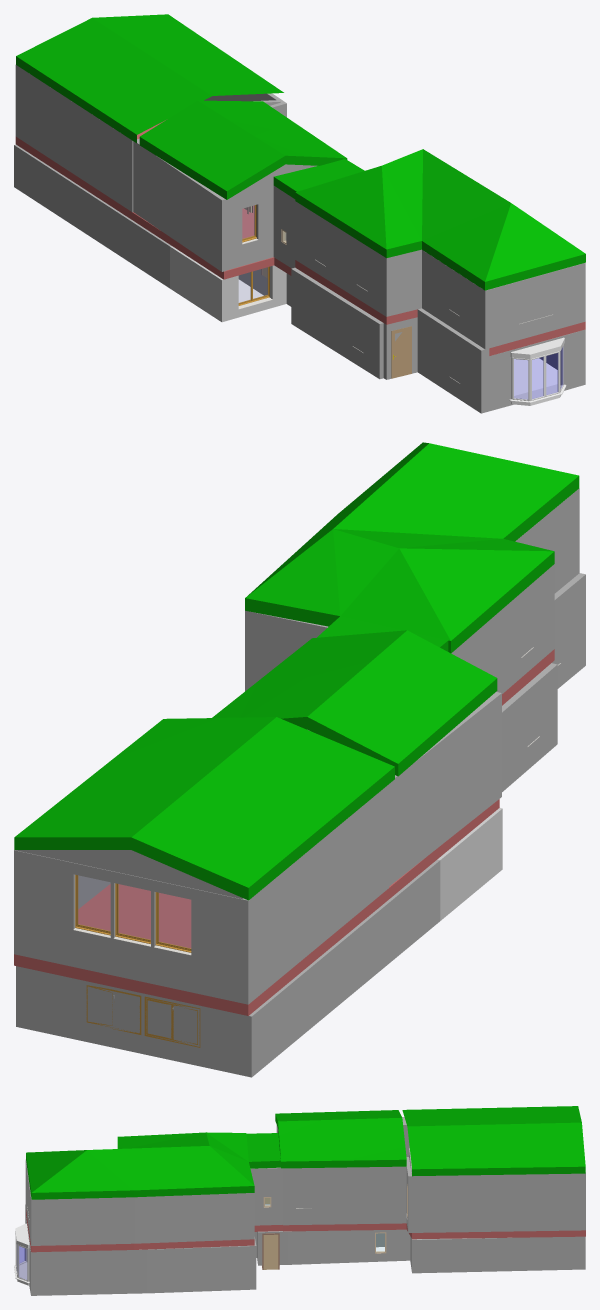
File: house.glb
The picture shows the model from 3 angles, top to bottom: view 1: azimuth 30°, elevation 25°; view 2: azimuth 150°, elevation 25°; view 3: azimuth 270°, elevation 25°; orthographic projection. The views are drawn at different scales.
Visible parts, largest first — view 1: 3XzpifDcjDEfk64CG2Fnoz, 3XzpifDcjDEfk64CO2FnYm, 3XzpifDcjDEfk64CO2FnwA, 3VABz7o1f8W9ikQq9ttgl2, 3VABz7o1f8W9ikQq9ttgek, 3VABz7o1f8W9ikQq9ttgy7, 3VABz7o1f8W9ikQq9ttgxj, 25QYtiKETCUupUmAlac2sX, 25QYtiKETCUupUmAlac10f, 25QYtiKETCUupUmAlac2h3, 3VABz7o1f8W9ikQq9ttgvN, 3VABz7o1f8W9ikQq9ttgh7 (+16 smaller); view 2: 3XzpifDcjDEfk64CO2FnYm, 3XzpifDcjDEfk64CG2Fnoz, 3XzpifDcjDEfk64CO2FnwA, 3VABz7o1f8W9ikQq9ttgiF, 3VABz7o1f8W9ikQq9ttgl2, 25QYtiKETCUupUmAlac13b, 3VABz7o1f8W9ikQq9ttgek, 2SDOckXXT5jh9RvQNsgsDw, 25QYtiKETCUupUmAlac10f, 3VABz7o1f8W9ikQq9ttgxj, 25QYtiKETCUupUmAlac2sX, 0_Y6Y$89z7E8BxuF8vUVXY (+8 smaller); view 3: 3XzpifDcjDEfk64CG2Fnoz, 3XzpifDcjDEfk64CO2FnYm, 3VABz7o1f8W9ikQq9ttgjr, 3XzpifDcjDEfk64CO2FnwA, 3VABz7o1f8W9ikQq9ttgWf, 25QYtiKETCUupUmAlac13F, 3VABz7o1f8W9ikQq9ttgnF, 25QYtiKETCUupUmAlac2jD, 3VABz7o1f8W9ikQq9ttgmE, 25QYtiKETCUupUmAlac2pN, 3wzja1Vg15r9yTB5Q_qZob, 2SDOckXXT5jh9RvQNsgsDw (+9 smaller).
Part boxes in pixels (box(x1,y1,x2,y2)): 3XzpifDcjDEfk64CG2Fnoz: box(295, 149, 585, 290); 3XzpifDcjDEfk64CO2FnYm: box(16, 14, 283, 143); 3XzpifDcjDEfk64CO2FnwA: box(139, 100, 347, 199); 3VABz7o1f8W9ikQq9ttgl2: box(15, 65, 133, 212); 3VABz7o1f8W9ikQq9ttgek: box(133, 139, 225, 271); 3VABz7o1f8W9ikQq9ttgy7: box(489, 264, 581, 348); 3VABz7o1f8W9ikQq9ttgxj: box(298, 203, 390, 316); 25QYtiKETCUupUmAlac2sX: box(291, 267, 383, 379); 25QYtiKETCUupUmAlac10f: box(14, 144, 135, 264); 25QYtiKETCUupUmAlac2h3: box(417, 308, 489, 413); 3VABz7o1f8W9ikQq9ttgvN: box(422, 250, 489, 349); 3VABz7o1f8W9ikQq9ttgh7: box(226, 172, 272, 270); 3XzpifDcjDEfk64CO2FnYm: box(14, 717, 394, 900); 3XzpifDcjDEfk64CG2Fnoz: box(245, 442, 579, 653); 3XzpifDcjDEfk64CO2FnwA: box(212, 630, 497, 776); 3VABz7o1f8W9ikQq9ttgiF: box(14, 850, 242, 1003); 3VABz7o1f8W9ikQq9ttgl2: box(242, 784, 389, 1004); 25QYtiKETCUupUmAlac13b: box(16, 966, 242, 1075); 3VABz7o1f8W9ikQq9ttgek: box(389, 692, 501, 885); 2SDOckXXT5jh9RvQNsgsDw: box(14, 799, 499, 1015); 25QYtiKETCUupUmAlac10f: box(242, 895, 397, 1077); 3VABz7o1f8W9ikQq9ttgxj: box(454, 564, 554, 693); 25QYtiKETCUupUmAlac2sX: box(502, 663, 557, 791); 0_Y6Y$89z7E8BxuF8vUVXY: box(437, 808, 502, 920); 3XzpifDcjDEfk64CG2Fnoz: box(26, 1132, 254, 1199); 3XzpifDcjDEfk64CO2FnYm: box(402, 1106, 585, 1176); 3VABz7o1f8W9ikQq9ttgjr: box(408, 1173, 582, 1232); 3XzpifDcjDEfk64CO2FnwA: box(275, 1110, 406, 1168); 3VABz7o1f8W9ikQq9ttgWf: box(283, 1166, 406, 1225); 25QYtiKETCUupUmAlac13F: box(412, 1236, 581, 1273); 3VABz7o1f8W9ikQq9ttgnF: box(134, 1193, 250, 1243); 25QYtiKETCUupUmAlac2jD: box(30, 1249, 146, 1295); 3VABz7o1f8W9ikQq9ttgmE: box(31, 1197, 134, 1245); 25QYtiKETCUupUmAlac2pN: box(154, 1245, 250, 1293); 3wzja1Vg15r9yTB5Q_qZob: box(287, 1229, 410, 1264); 2SDOckXXT5jh9RvQNsgsDw: box(254, 1223, 585, 1239).
Bounding box in the file's own units: 10.91 × 7.84 × 30.07.
